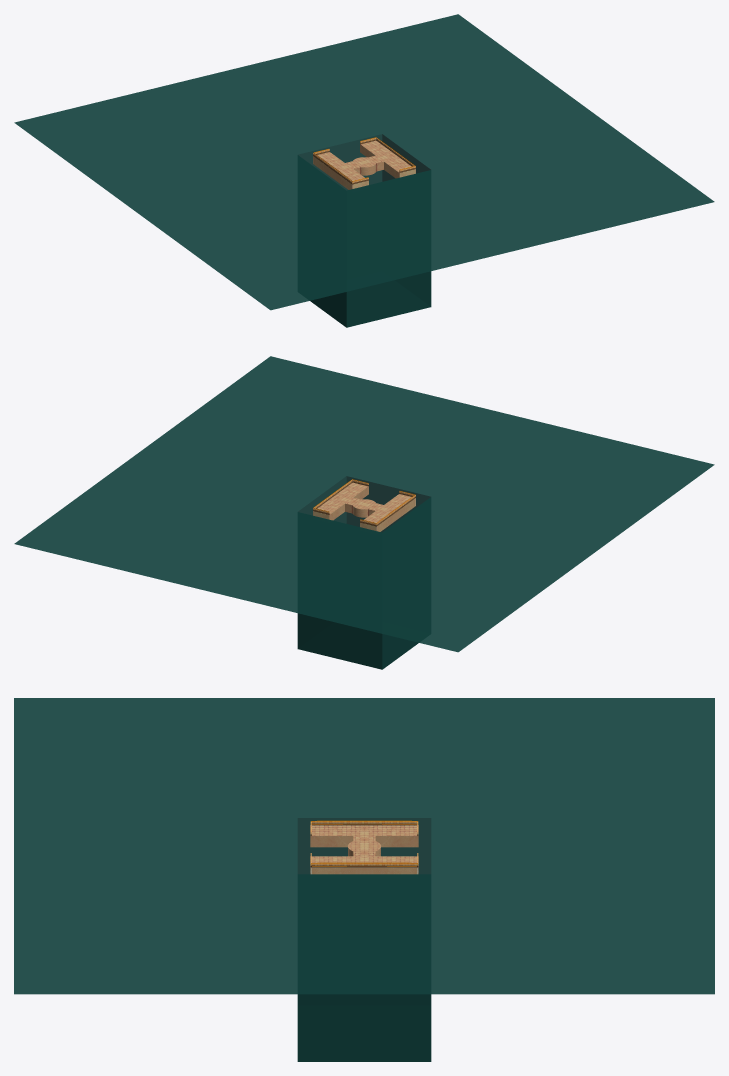
The model's file is Battle_Stage 7.fbx.
3 renders of one model, top to bottom at view 1: azimuth 30°, elevation 25°; view 2: azimuth 150°, elevation 25°; view 3: azimuth 270°, elevation 25°, orthographic. The views are drawn at different scales.
Visible parts, largest first — view 1: Plane.161, circle_platform_2, CR_Platform_Cube.027; view 2: Plane.161, circle_platform_2, CR_Platform_Cube.027; view 3: Plane.161, circle_platform_2, CR_Platform_Cube.027.
Boxes of the visible parts, bbox=[...] form: Plane.161: bbox=[14, 14, 714, 327]; circle_platform_2: bbox=[313, 140, 415, 189]; CR_Platform_Cube.027: bbox=[313, 137, 415, 184]; Plane.161: bbox=[14, 356, 714, 669]; circle_platform_2: bbox=[313, 482, 415, 531]; CR_Platform_Cube.027: bbox=[313, 479, 415, 526]; Plane.161: bbox=[14, 698, 714, 1061]; circle_platform_2: bbox=[310, 825, 418, 874]; CR_Platform_Cube.027: bbox=[310, 821, 418, 867].
Bounding box in the file's own units: 56460 × 17886 × 56460.
